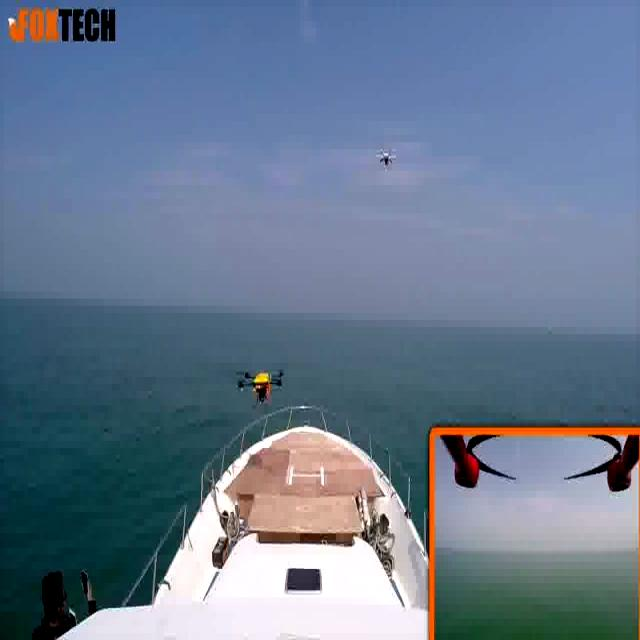drone: (234, 361, 288, 413), (374, 144, 401, 174)
